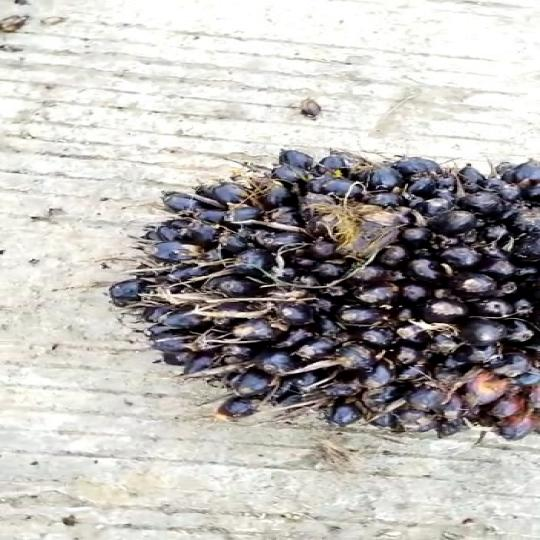mentah: (96, 131, 540, 462)
